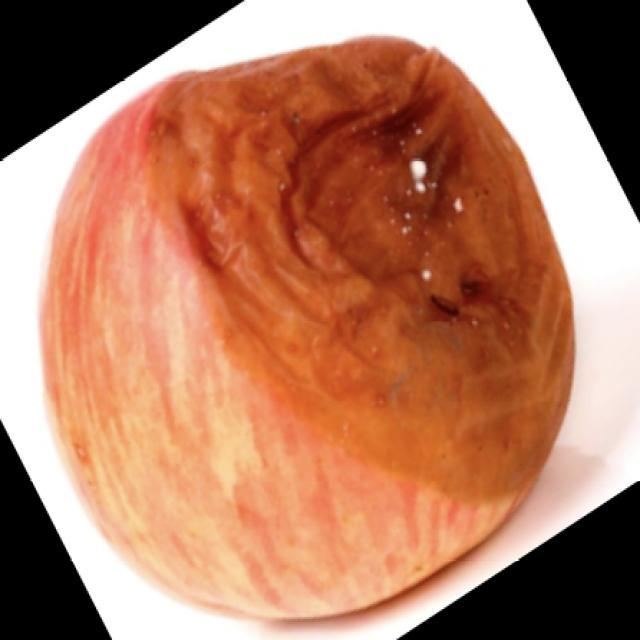Rotten: (48, 43, 580, 640)
